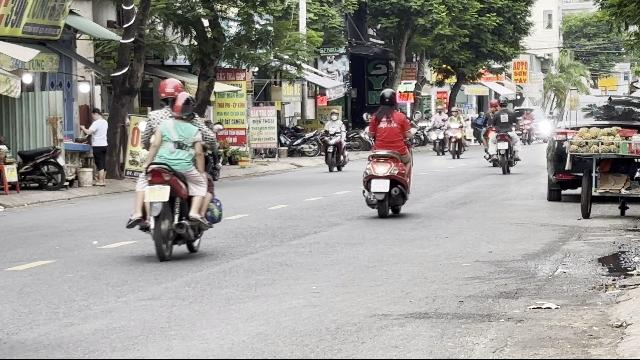helmet: (169, 90, 197, 124), (156, 77, 184, 107), (378, 87, 398, 108)
licenseplate: (144, 186, 170, 202), (371, 179, 389, 191)
motorcyclist: (126, 76, 224, 260), (359, 88, 415, 216)
